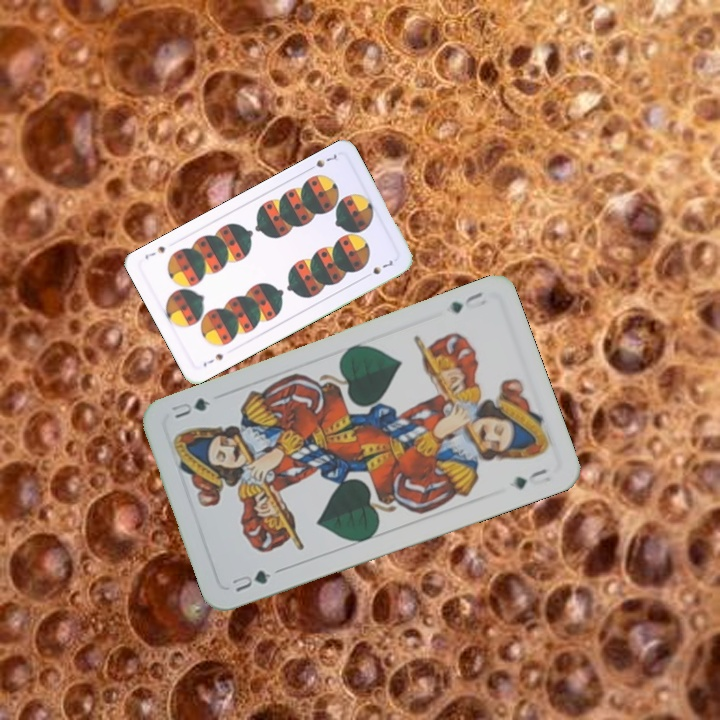GU: (228, 566, 274, 595), (446, 288, 489, 316)
S7: (199, 349, 226, 370), (312, 150, 340, 170)
